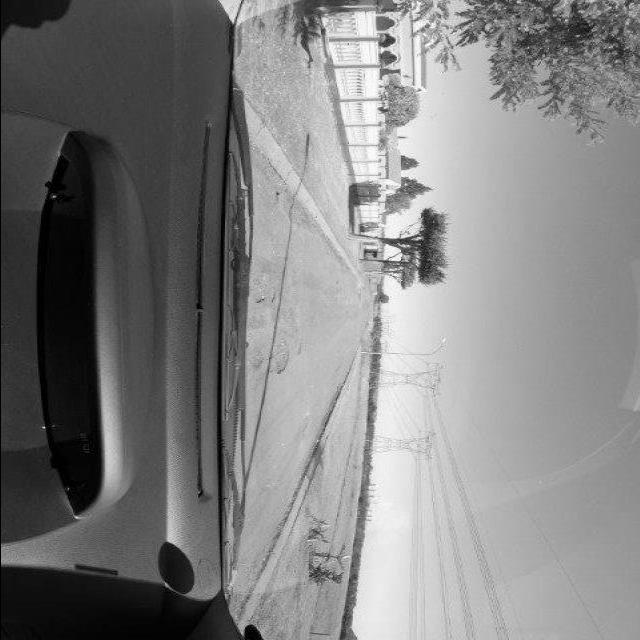lubang: (262, 161, 316, 229), (272, 339, 290, 377), (249, 280, 271, 302), (248, 348, 266, 371), (265, 284, 283, 306)
